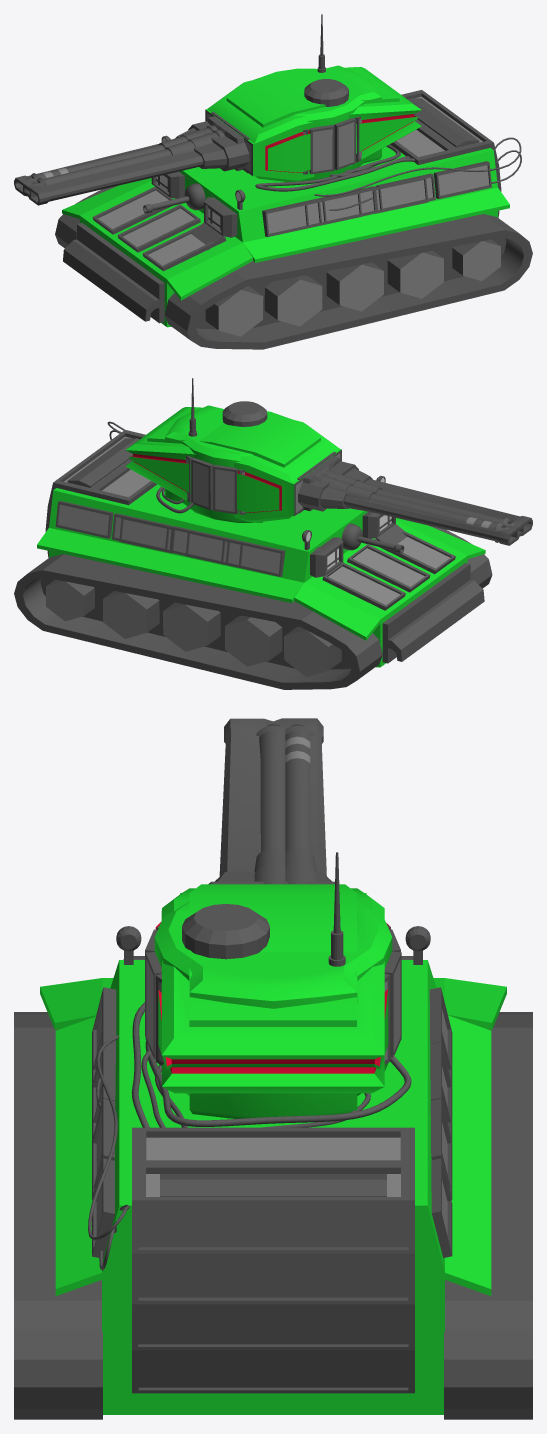
File: tank_tier1-3.fbx
3 renders of one model, top to bottom at view 1: azimuth 30°, elevation 25°; view 2: azimuth 150°, elevation 25°; view 3: azimuth 270°, elevation 25°, orthographic. The views are drawn at different scales.
Visible parts, largest first — view 1: body_1, wheels, body_3, head_3, gun_3, head_1, head_2, gun_1, gun_2, body_2; view 2: body_1, wheels, body_3, head_3, gun_3, head_1, head_2, gun_2, gun_1, body_2; view 3: body_1, wheels, head_3, head_1, body_3, gun_3, head_2, gun_2, gun_1, body_2.
Part boxes in pixels (box(x1,y1,x2,y2)): body_1: box(62, 90, 521, 327); wheels: box(55, 185, 532, 349); body_3: box(92, 161, 491, 271); head_3: box(205, 67, 421, 181); gun_3: box(14, 121, 249, 205); head_1: box(211, 65, 381, 182); head_2: box(303, 14, 361, 174); gun_1: box(32, 124, 236, 186); gun_2: box(26, 116, 244, 183); body_2: box(305, 137, 521, 225); body_1: box(37, 430, 485, 667); wheels: box(14, 525, 492, 689); body_3: box(55, 501, 455, 610); head_3: box(125, 407, 341, 522); gun_3: box(298, 461, 532, 545); head_1: box(165, 401, 335, 522); head_2: box(186, 378, 245, 514); gun_2: box(303, 456, 508, 542); gun_1: box(315, 461, 515, 526); body_2: box(107, 421, 242, 566); body_1: box(40, 926, 506, 1414); wheels: box(14, 1012, 532, 1419); head_3: box(155, 884, 390, 1093); head_1: box(154, 901, 392, 1118); body_3: box(92, 956, 452, 1258); gun_3: box(208, 718, 334, 884); head_2: box(145, 852, 401, 1065); gun_2: box(285, 724, 316, 884); gun_1: box(254, 724, 285, 884); body_2: box(88, 1032, 452, 1240).
Bounding box in the file's own units: 1197 × 607 × 606.
